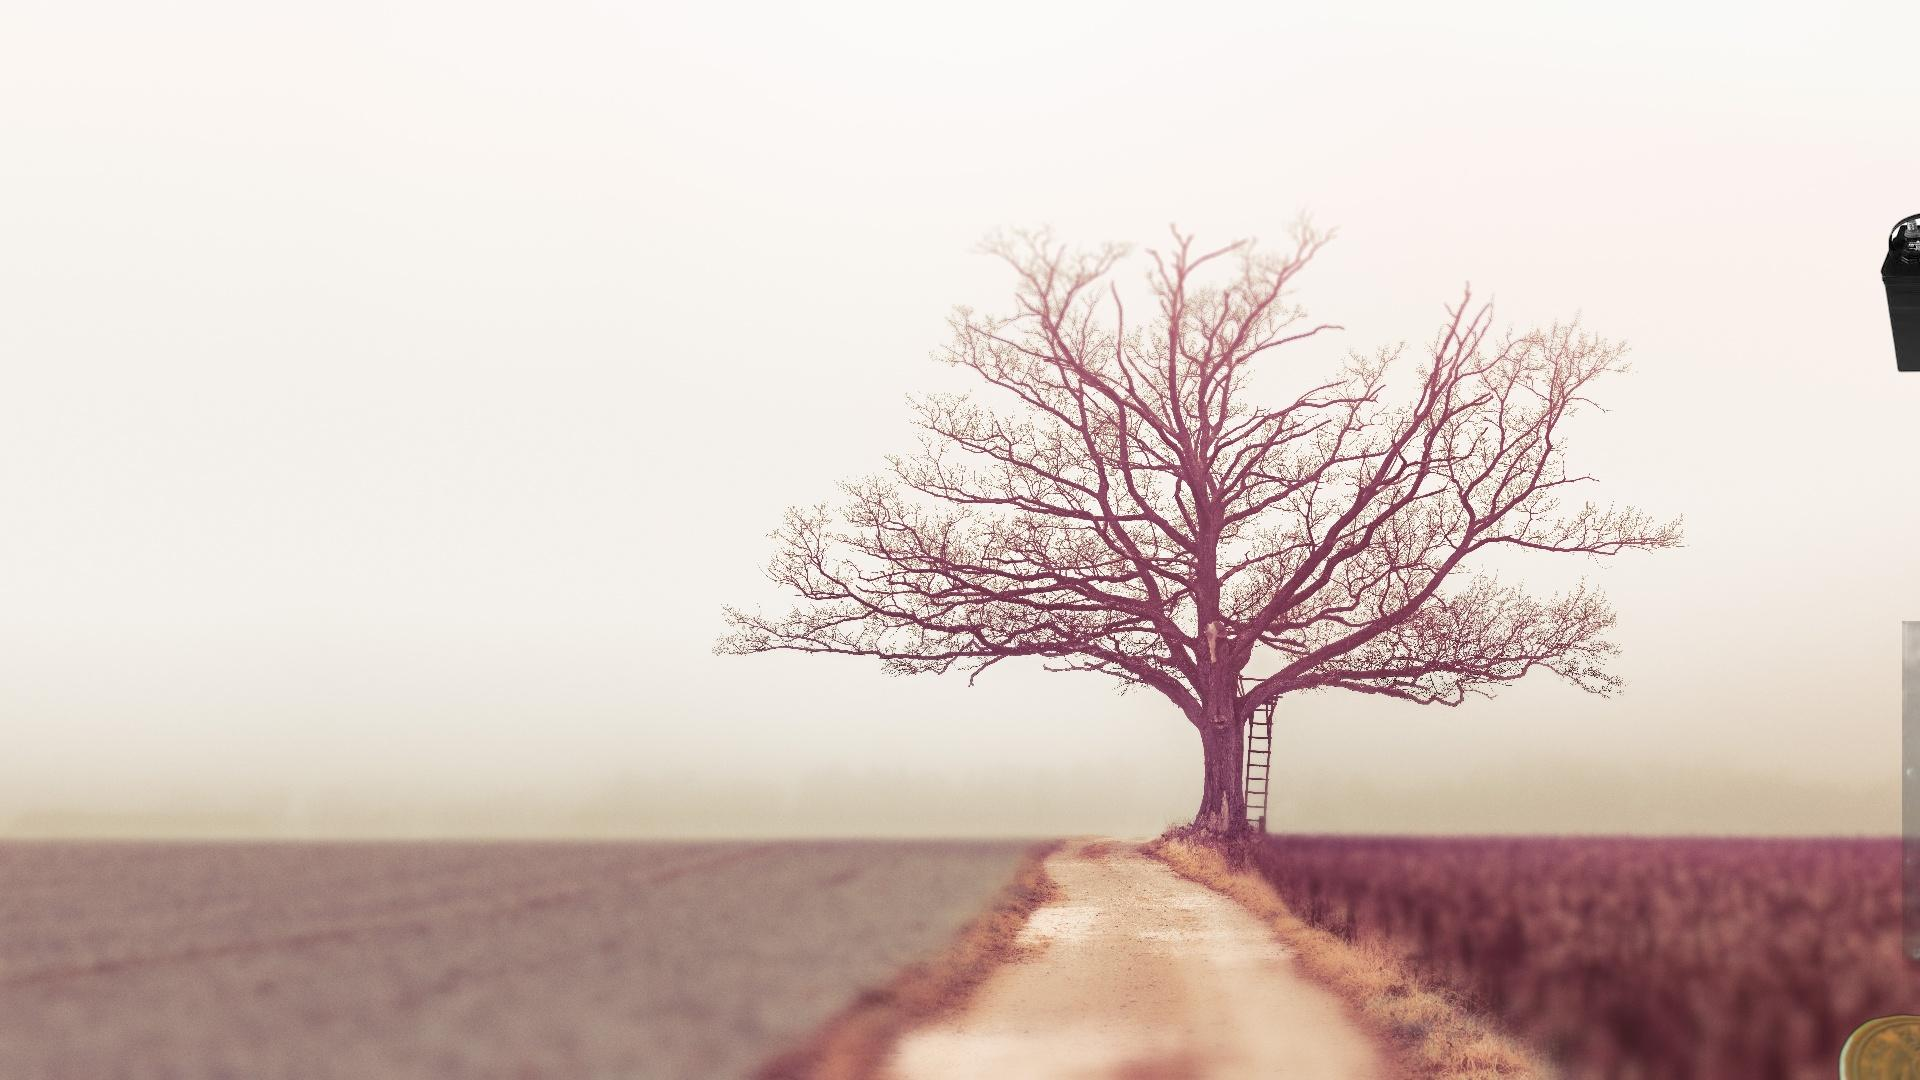battery: (1878, 205, 1920, 375)
glass: (1834, 1011, 1920, 1080)
paper: (1902, 621, 1920, 1005)
